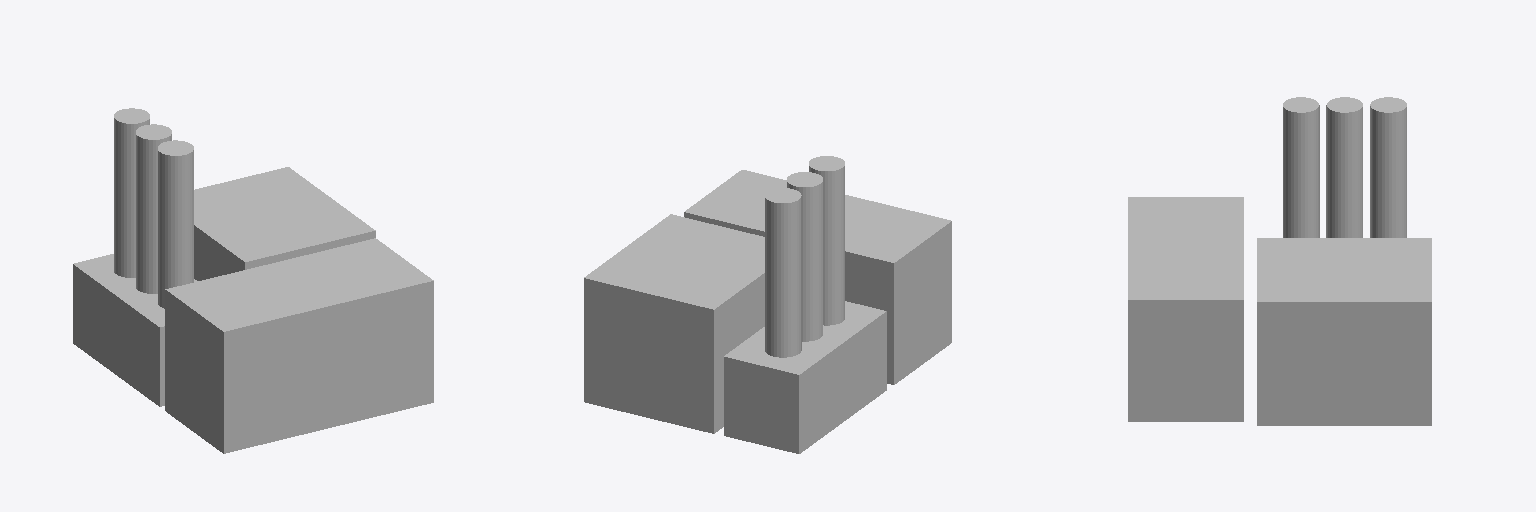
File: powerplant_lopo.obj
3 renders of one model, left to right at view 1: azimuth 30°, elevation 25°; view 2: azimuth 150°, elevation 25°; view 3: azimuth 270°, elevation 25°, orthographic.
Parts seen in each view (by area): view 1: Cube.002, Cube.001, Cube, Cylinder_Cylinder.001, Cylinder.001_Cylinder.002, Cylinder.002_Cylinder.003; view 2: Cube.001, Cube.002, Cube, Cylinder.002_Cylinder.003, Cylinder_Cylinder.001, Cylinder.001_Cylinder.002; view 3: Cube.001, Cube.002, Cylinder.002_Cylinder.003, Cylinder_Cylinder.001, Cylinder.001_Cylinder.002.
Boxes of the visible parts, x1,y1,x2,y2 form: Cube.002: [165, 238, 433, 453]; Cube.001: [194, 167, 375, 280]; Cube: [73, 254, 197, 406]; Cylinder_Cylinder.001: [158, 140, 193, 308]; Cylinder.001_Cylinder.002: [136, 124, 171, 293]; Cylinder.002_Cylinder.003: [114, 108, 149, 277]; Cube.001: [584, 214, 764, 433]; Cube.002: [684, 170, 951, 384]; Cube: [724, 301, 886, 453]; Cylinder.002_Cylinder.003: [765, 188, 801, 357]; Cylinder_Cylinder.001: [809, 156, 844, 325]; Cylinder.001_Cylinder.002: [787, 172, 822, 341]; Cube.001: [1257, 238, 1431, 425]; Cube.002: [1128, 197, 1243, 421]; Cylinder.002_Cylinder.003: [1370, 97, 1406, 237]; Cylinder_Cylinder.001: [1283, 97, 1319, 237]; Cylinder.001_Cylinder.002: [1326, 97, 1362, 237].
Bounding box in the file's own units: 0.5715 × 0.5897 × 0.694.